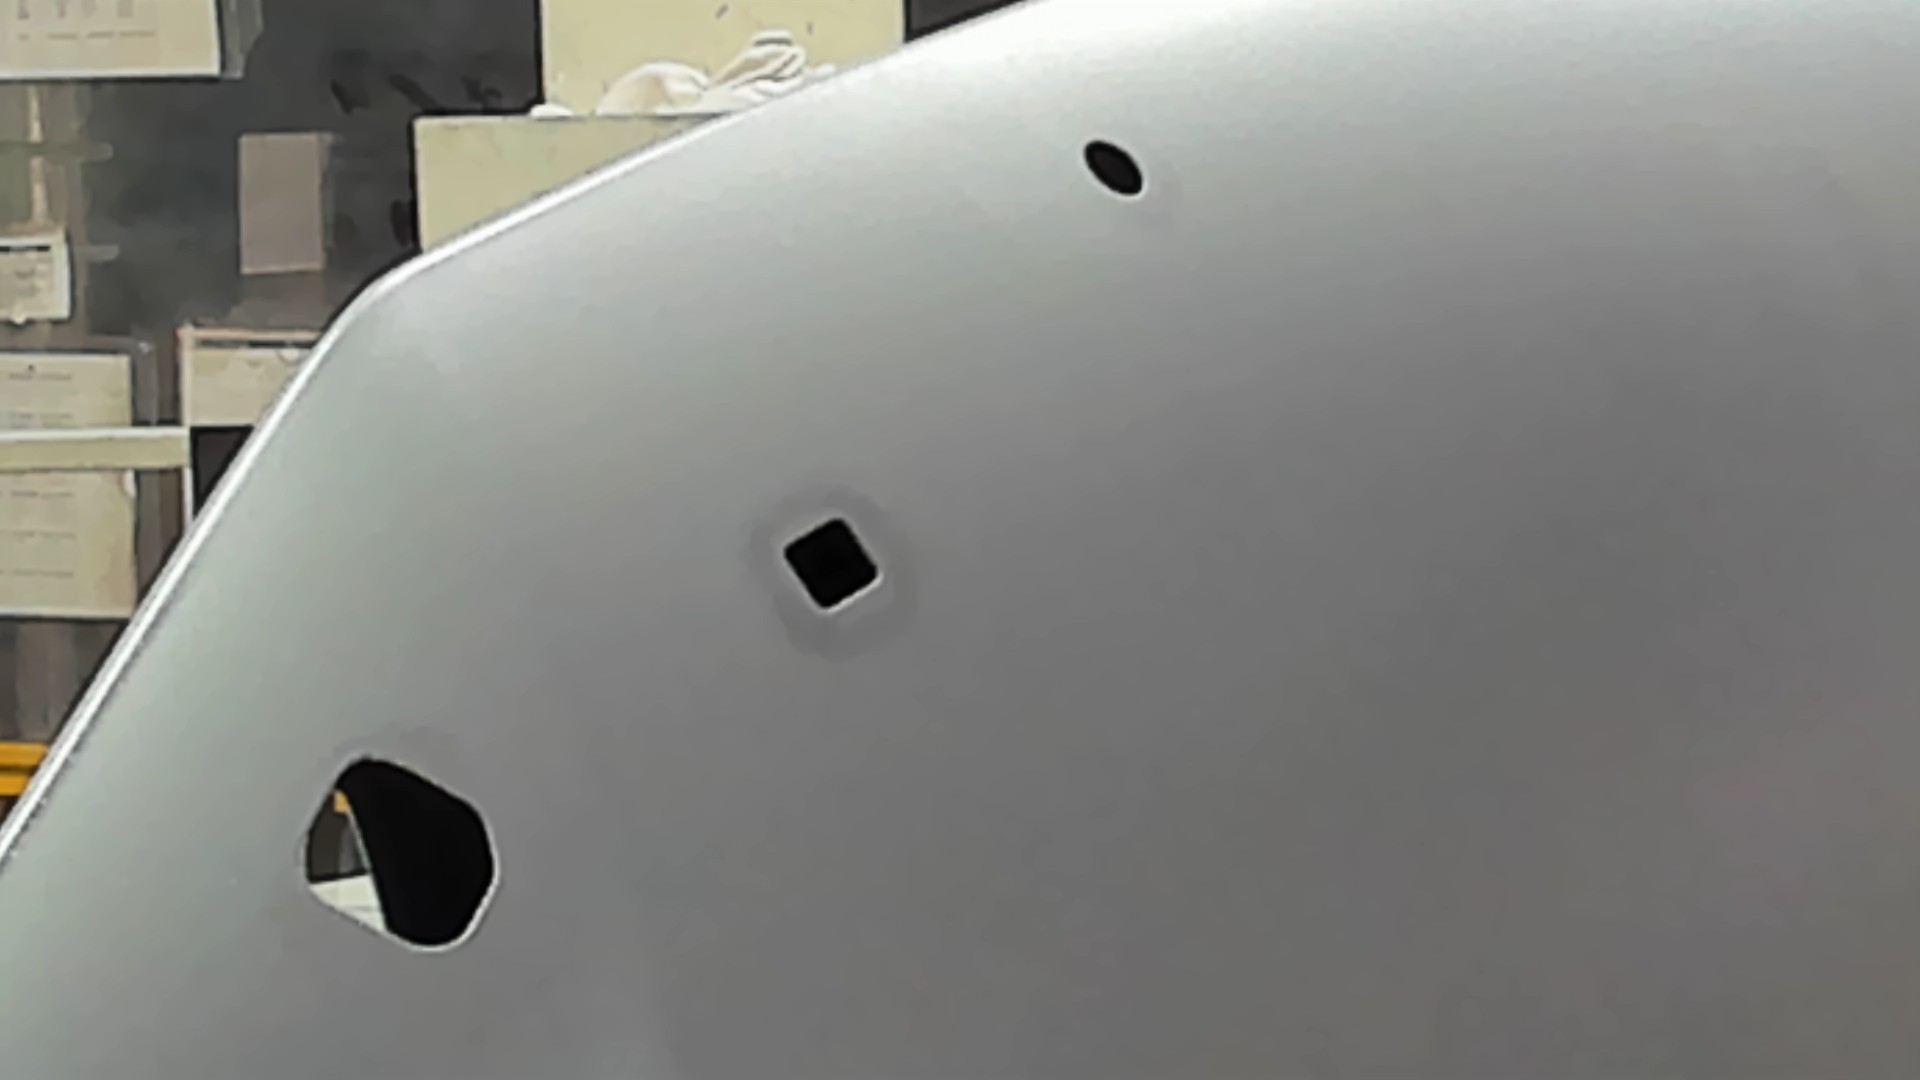capo: (891, 207, 1920, 1080)
chico: (1075, 131, 1151, 206)
grande: (291, 752, 506, 964)
mediano: (775, 509, 887, 624)
